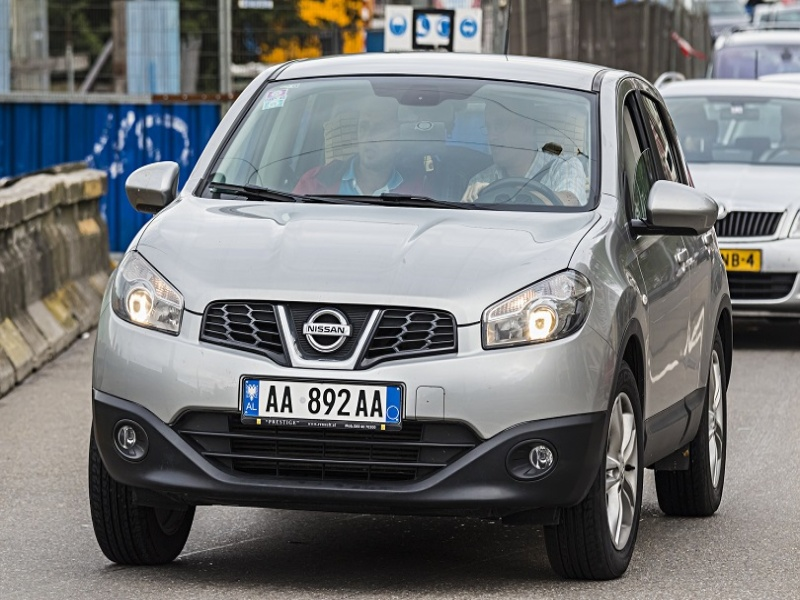licenceplate: (233, 372, 408, 433)
